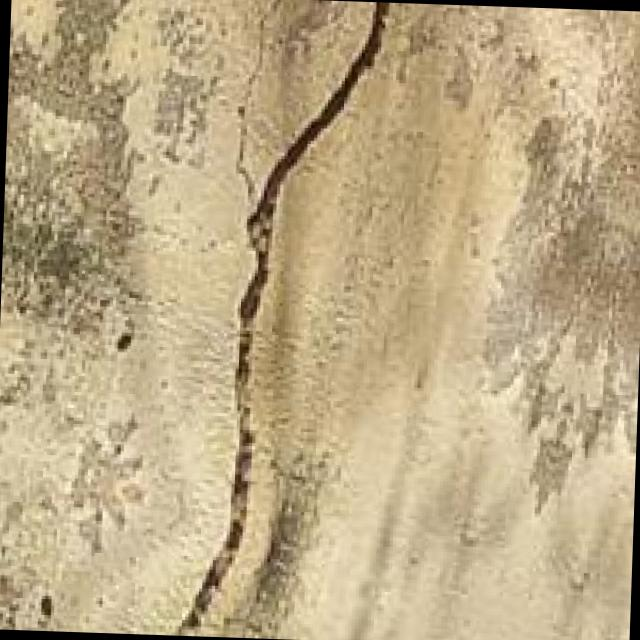crack: (142, 0, 430, 640)
